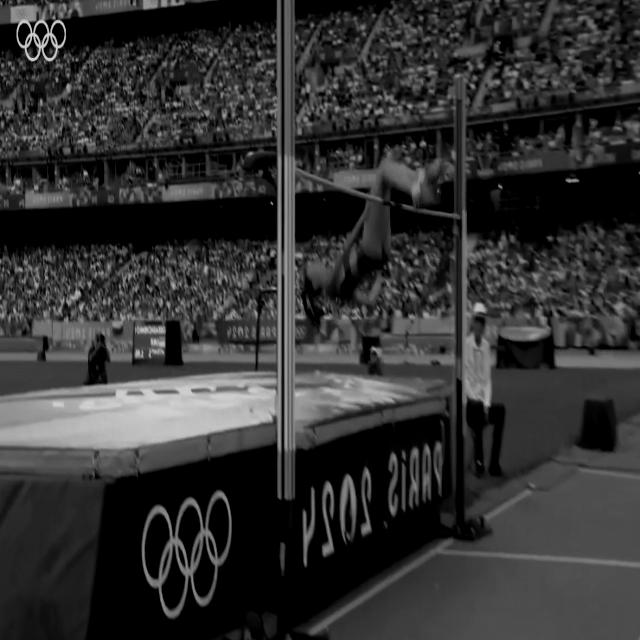jump: (299, 141, 439, 306)
